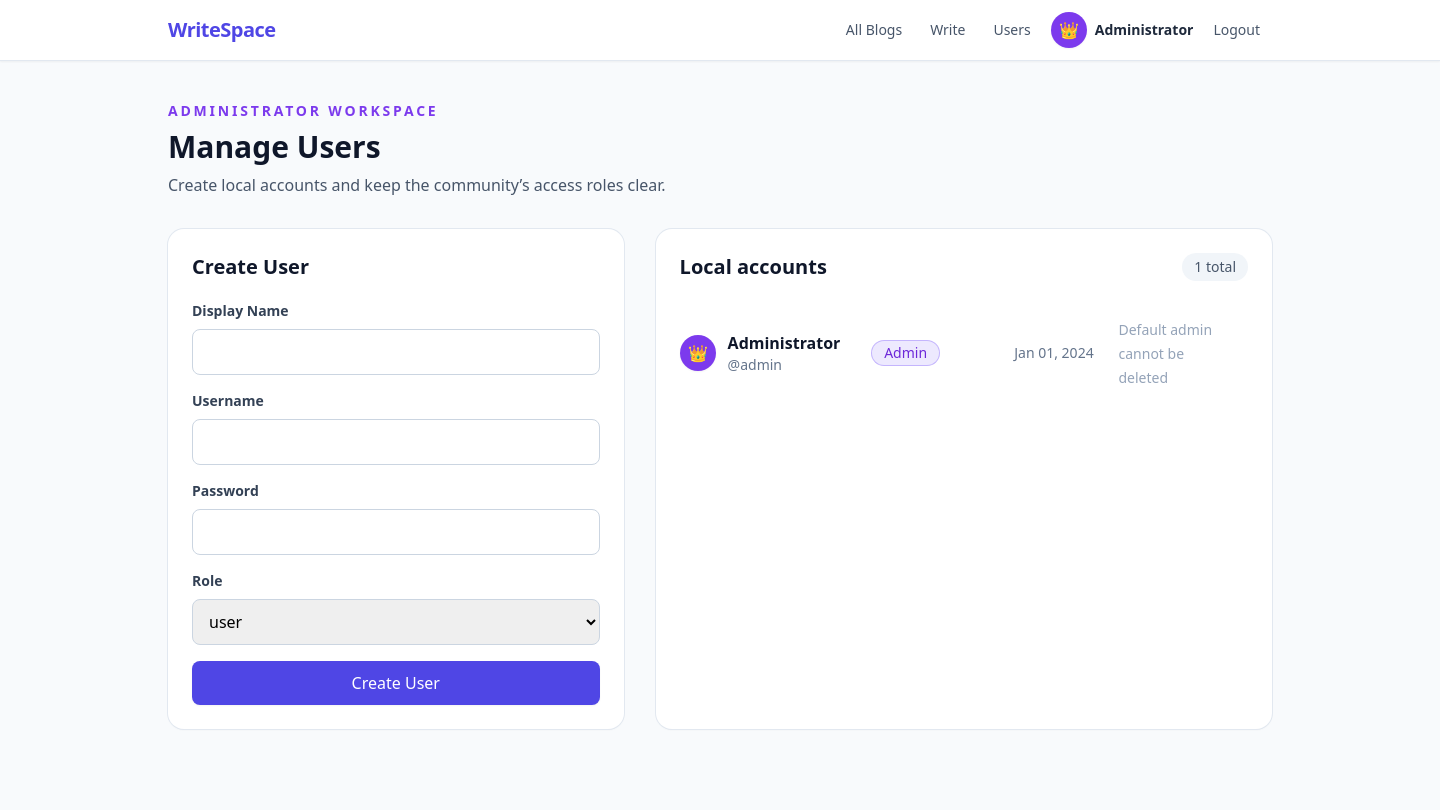
Test case: UserManagement › shows a form error and does not create an account when saving an admin-created user fails
Type "Failed Admin" into the field labelled "Display Name" at [396, 352], box [192,329,600,375]
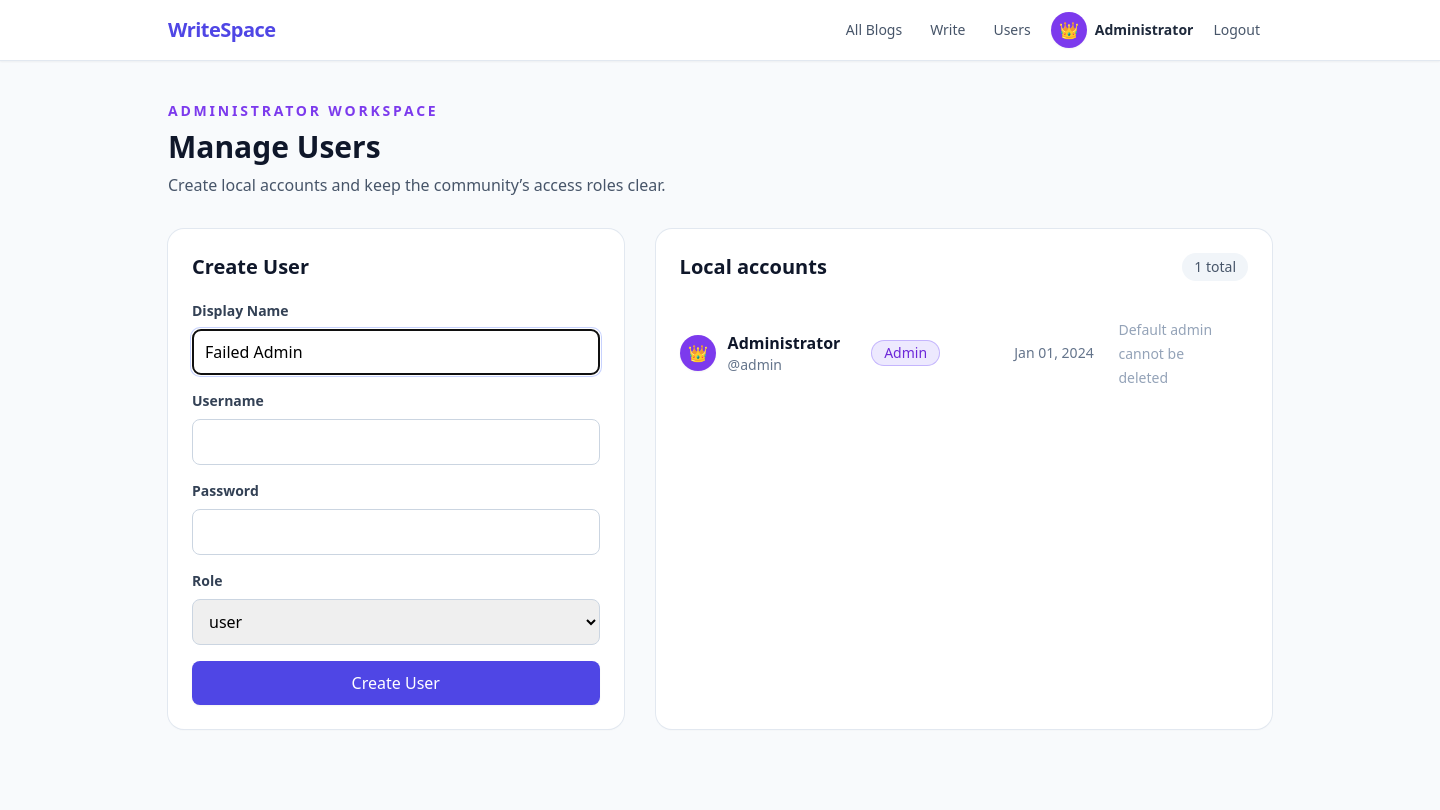
Type "failed-admin" into the field labelled "Username" at [396, 442], box [192,419,600,465]
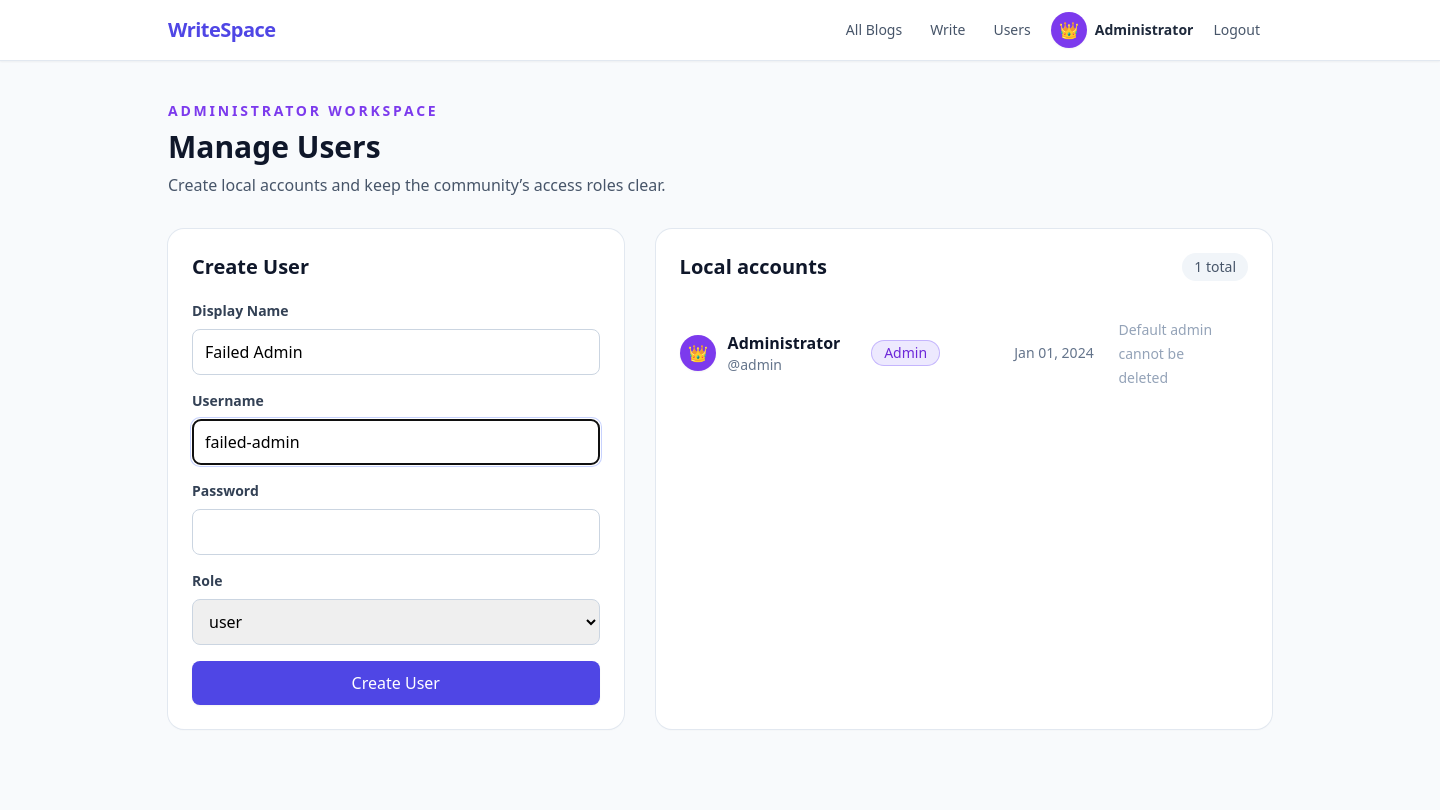
Type "secret" into the password field labelled "Password" at [396, 532], box [192,509,600,555]
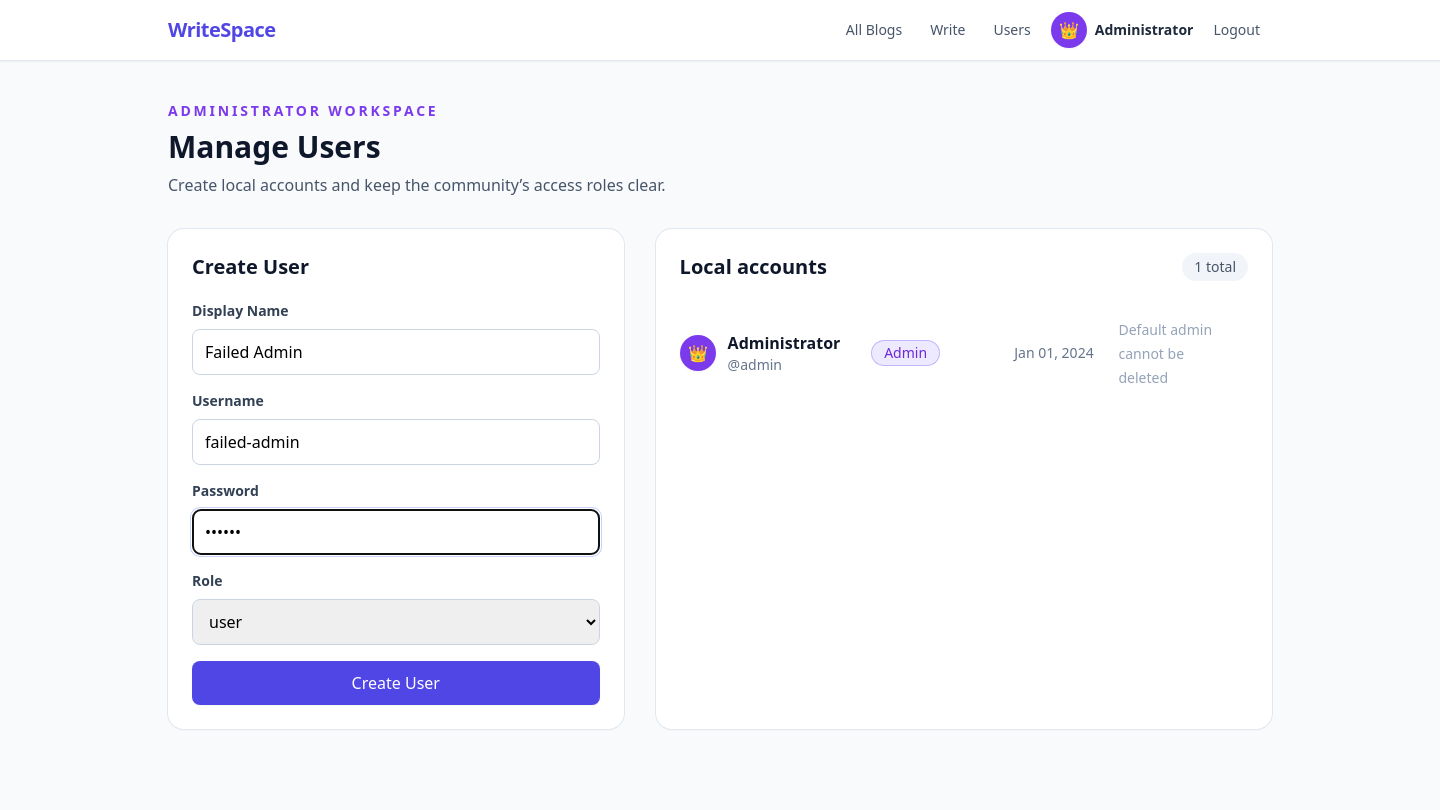
Select "Admin" in the dropdown labelled "Role" at [396, 622], box [192,599,600,645]
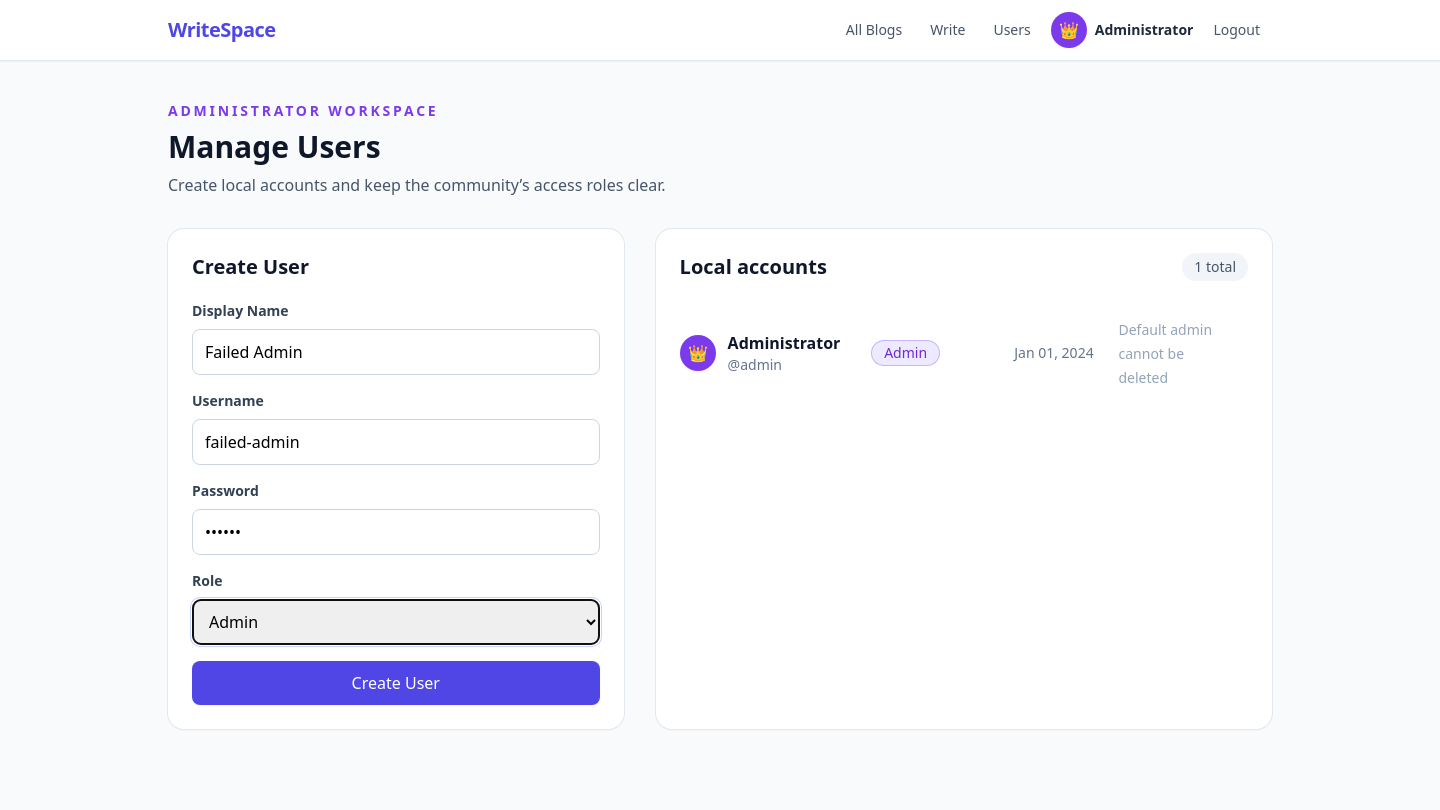
Click the button "Create User" at [396, 683], box [192,661,600,705]
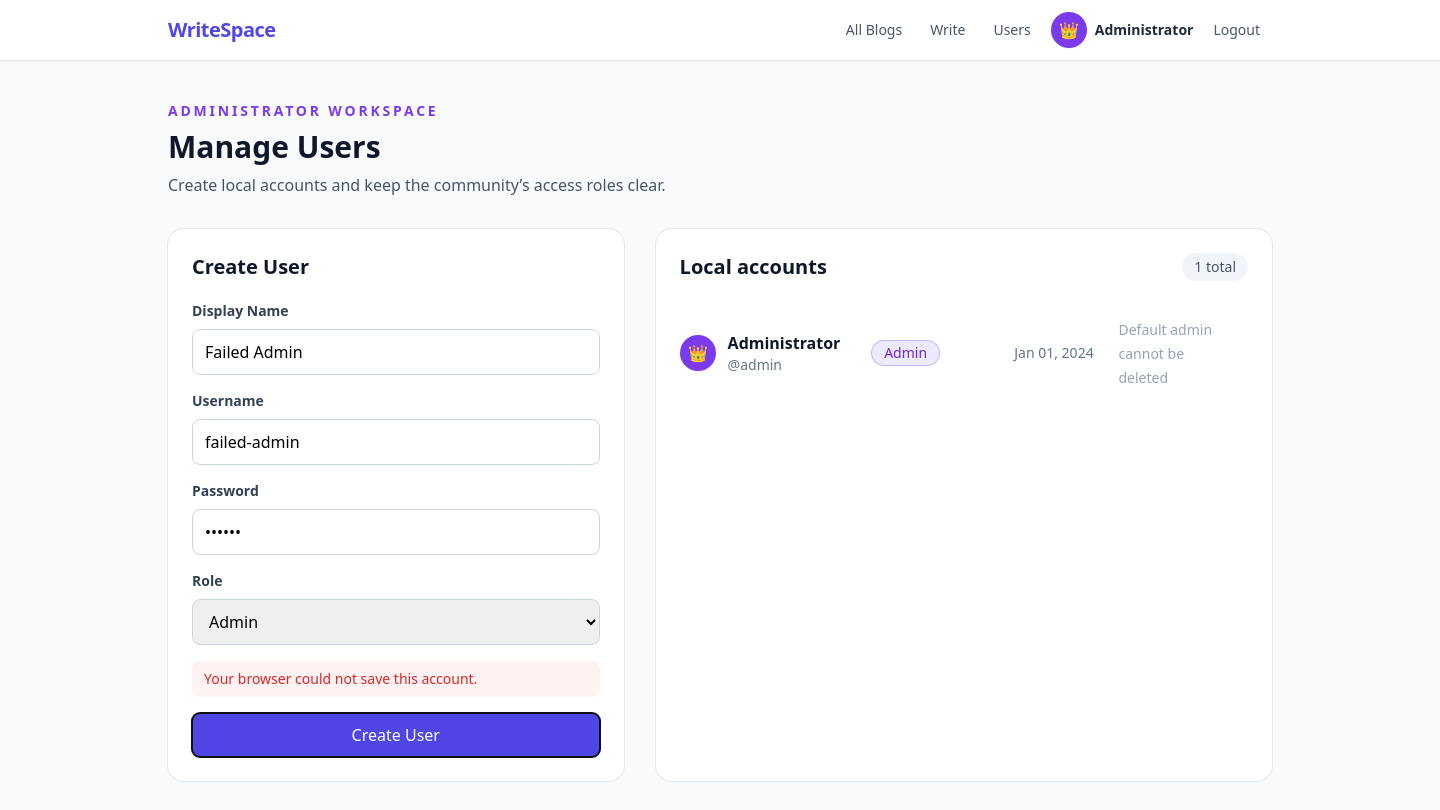
Now the message reads "Your browser could not save this account.", box [204,669,477,688]
